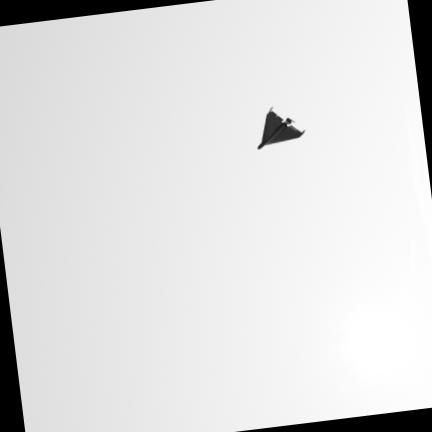Shahed: (258, 108, 303, 148)
